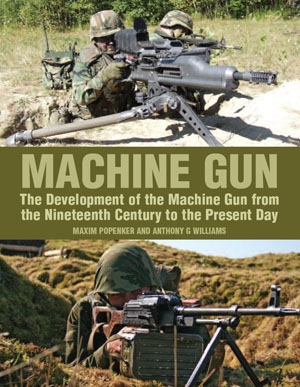rifle: (144, 50, 281, 112), (161, 296, 297, 355)
rifle in hand: (115, 34, 289, 124), (91, 301, 300, 370)
